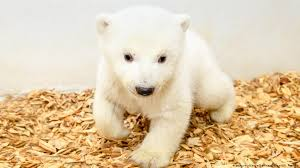PolarBear: (85, 7, 238, 155)
